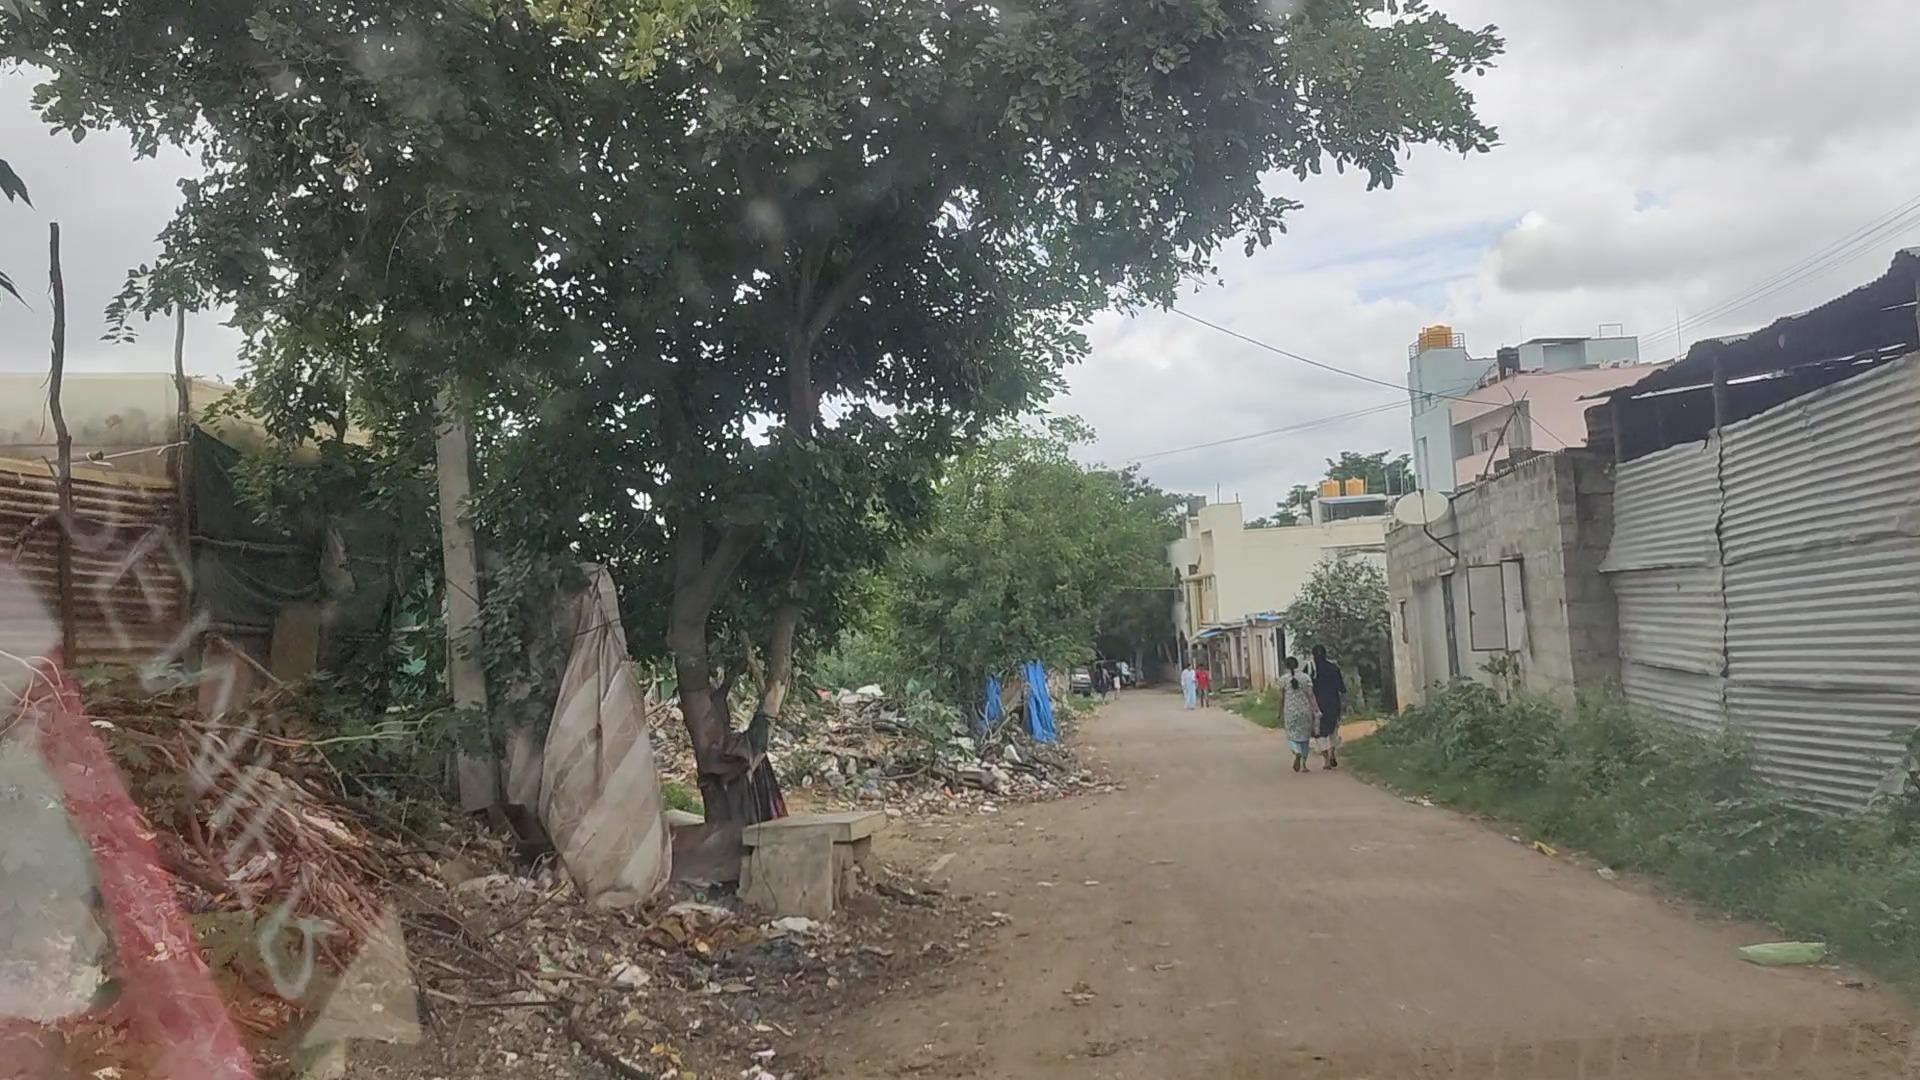UnsurfacedRoad: (1048, 857, 1738, 1063)
